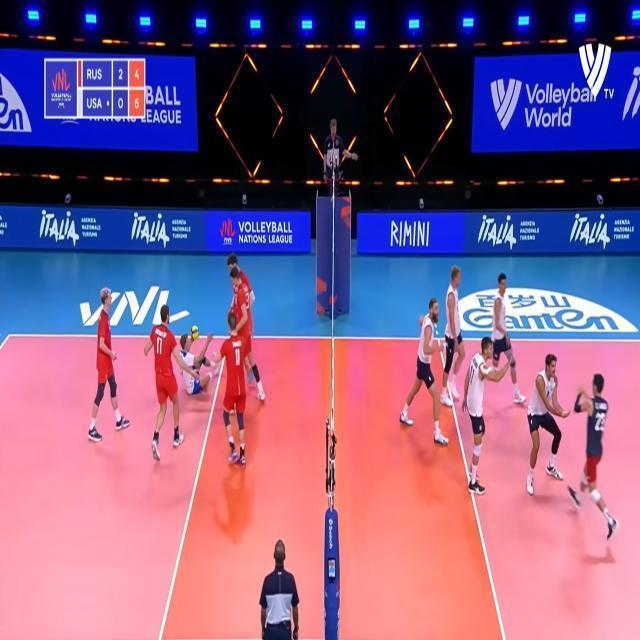volleyball: (190, 326, 200, 340)
